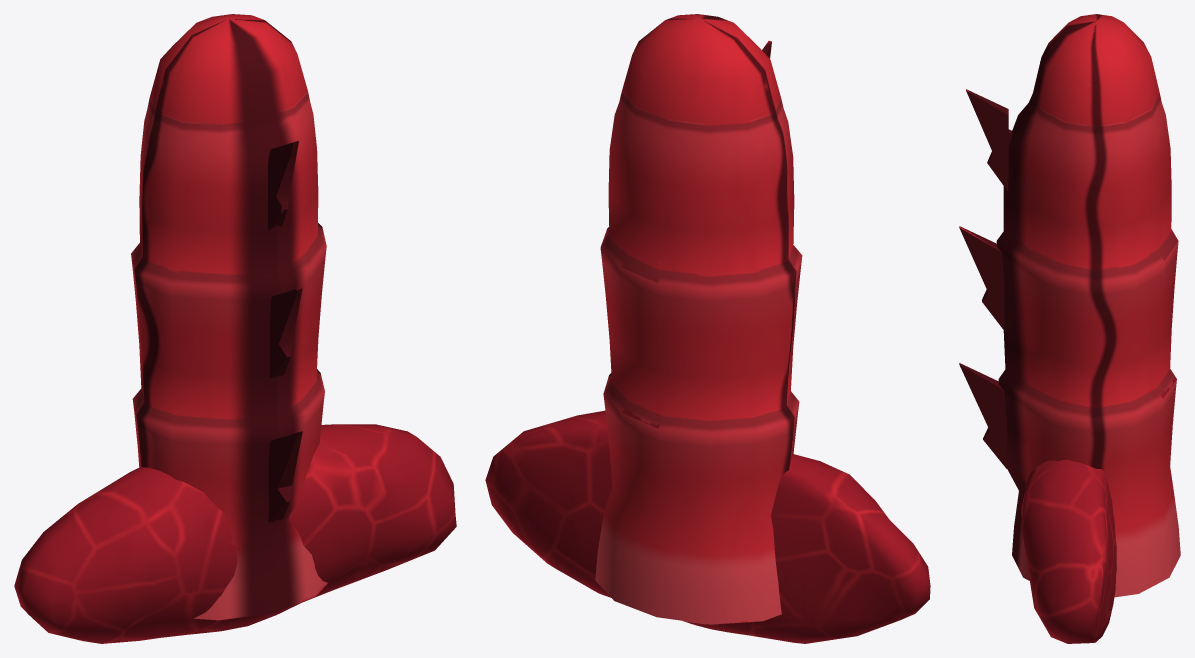
File: kagune_rinkaku.fbx
3 views of the same model, side by side, from view 1: azimuth 30°, elevation 25°; view 2: azimuth 150°, elevation 25°; view 3: azimuth 270°, elevation 25° (orthographic). The views are drawn at different scales.
Visible parts, largest first — view 1: RinkakuSeg1, Kakuhou; view 2: RinkakuSeg1, Kakuhou; view 3: RinkakuSeg1, Kakuhou.
Boxes of the visible parts, x1,y1,x2,y2 form: RinkakuSeg1: (131,14,327,620); Kakuhou: (14,424,456,643); RinkakuSeg1: (595,14,802,624); Kakuhou: (485,410,930,643); RinkakuSeg1: (959,14,1180,597); Kakuhou: (1021,459,1116,643).
Size of the model in its own units: 1.35 by 1.8 by 0.6299.
